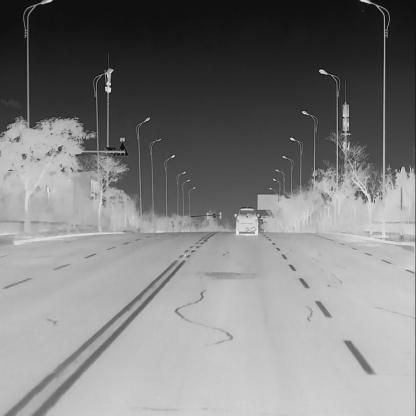car: (234, 206, 259, 235)
